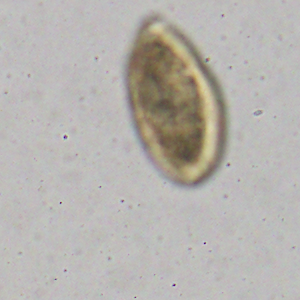Fasciola_hepatica_egg: (127, 12, 227, 188)
